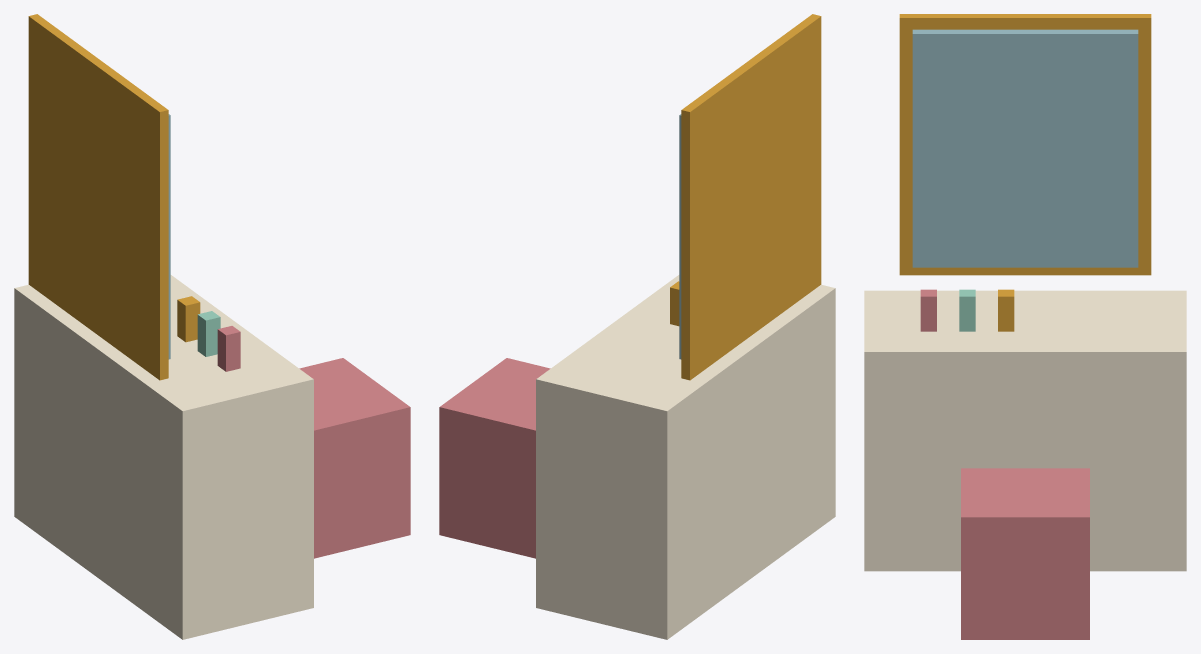
File: vanity.glb
3 views of the same model, side by side, from view 1: azimuth 30°, elevation 25°; view 2: azimuth 150°, elevation 25°; view 3: azimuth 270°, elevation 25° (orthographic). The views are drawn at different scales.
Parts seen in each view (by area): view 1: Box1, Box3, Box7, Box4, Box6, Box5, Box2; view 2: Box1, Box3, Box7, Box2; view 3: Box1, Box2, Box7, Box3, Box5, Box4, Box6.
Boxes of the visible parts, x1,y1,x2,y2 form: Box1: (14, 275, 313, 639); Box3: (28, 14, 168, 380); Box7: (299, 358, 410, 558); Box4: (217, 326, 240, 371); Box6: (177, 296, 200, 342); Box5: (197, 311, 220, 356); Box2: (168, 114, 170, 359); Box1: (536, 275, 835, 639); Box3: (681, 14, 821, 380); Box7: (439, 358, 550, 558); Box2: (679, 114, 681, 359); Box1: (864, 290, 1186, 571); Box2: (912, 29, 1138, 267); Box7: (961, 468, 1089, 639); Box3: (899, 14, 1151, 275); Box5: (959, 289, 975, 331); Box4: (920, 289, 936, 331); Box6: (998, 289, 1014, 331).
Bounding box in the file's own units: 0.97 × 1.69 × 1.
